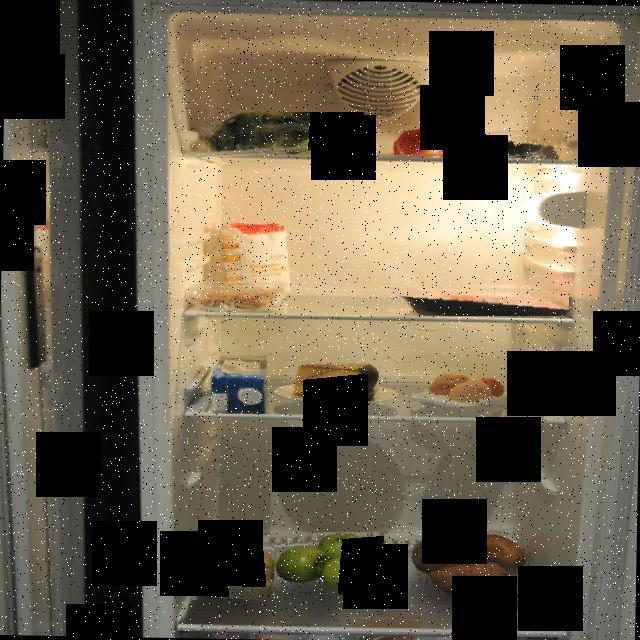apple: (275, 532, 385, 600)
blueberries: (461, 130, 568, 159)
cheese: (290, 362, 379, 402)
egg: (428, 364, 512, 407)
ground_beef: (389, 280, 569, 316)
milk: (204, 353, 270, 414)
potato: (187, 542, 274, 600)
spinach: (202, 112, 365, 159)
sugar: (217, 222, 290, 300)
sweet_potato: (409, 526, 532, 606)
tomato: (390, 126, 482, 160)
